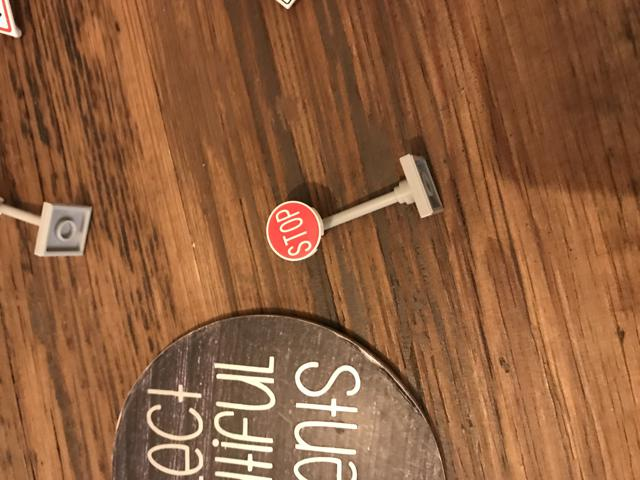stop: (265, 200, 323, 262)
